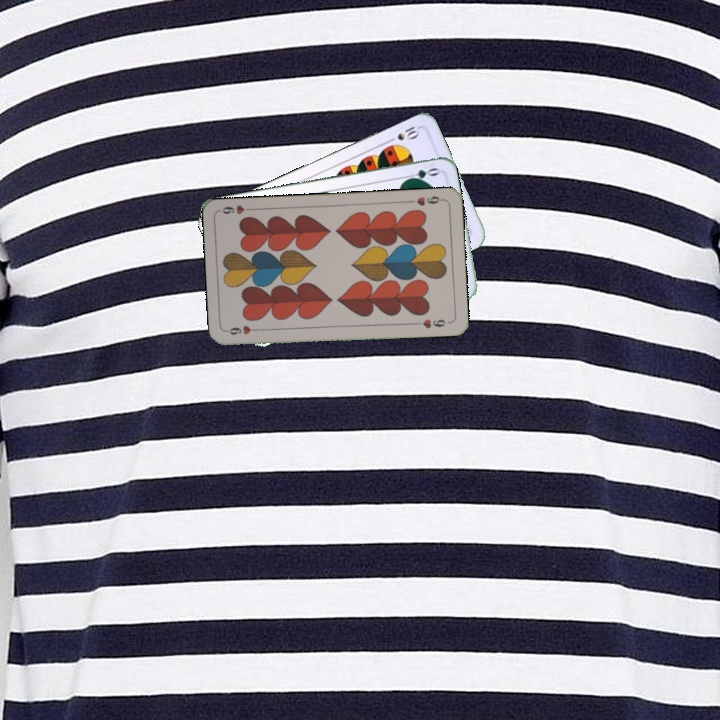GO: (400, 164, 441, 184)
H9: (406, 192, 446, 208), (223, 322, 264, 337)
S10: (383, 122, 422, 145)
